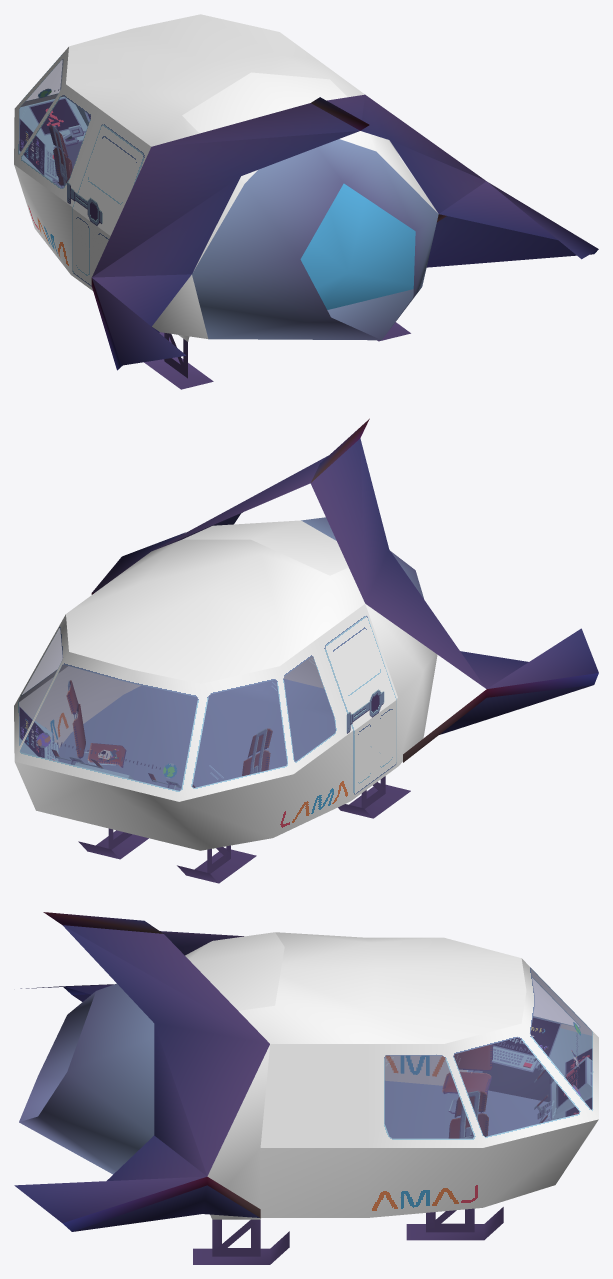
Rendered from spaceship.gltf.
The picture shows the model from 3 angles, top to bottom: view 1: azimuth 30°, elevation 25°; view 2: azimuth 150°, elevation 25°; view 3: azimuth 270°, elevation 25°; orthographic projection.
Visible parts, largest first — view 1: spaceship, wing, door, window, cockpit, landing_gear_rear_left, seat_left; view 2: spaceship, window, wing, door, landing_gear_front_left, landing_gear_rear_left, seat_right, cockpit, landing_gear_front_right, seat_left; view 3: spaceship, wing, window, cockpit, landing_gear_rear_right, landing_gear_front_right, seat_left, seat_right, monitor.
Boxes of the visible parts, x1,y1,x2,y2 form: spaceship: [14, 14, 438, 340]; wing: [91, 94, 598, 370]; door: [72, 124, 143, 286]; window: [19, 60, 90, 188]; cockpit: [19, 97, 143, 188]; landing_gear_rear_left: [144, 332, 213, 389]; seat_left: [49, 125, 72, 186]; spaceship: [14, 517, 437, 850]; window: [19, 628, 335, 790]; wing: [91, 418, 598, 762]; door: [325, 615, 396, 794]; landing_gear_front_left: [177, 845, 256, 883]; landing_gear_rear_left: [338, 776, 410, 818]; seat_right: [66, 680, 126, 767]; cockpit: [19, 706, 58, 761]; landing_gear_front_right: [78, 828, 148, 859]; seat_left: [242, 728, 272, 776]; spaceship: [19, 932, 598, 1217]; wing: [14, 912, 269, 1231]; window: [384, 968, 592, 1138]; cockpit: [474, 1016, 592, 1121]; landing_gear_rear_right: [193, 1214, 289, 1264]; landing_gear_front_right: [406, 1207, 503, 1240]; seat_left: [442, 1044, 493, 1113]; seat_right: [449, 1091, 488, 1138]; monitor: [556, 1057, 592, 1114].
Size of the model in its own units: 7.25 by 4.22 by 7.56.
4 materials, 4 textured.
